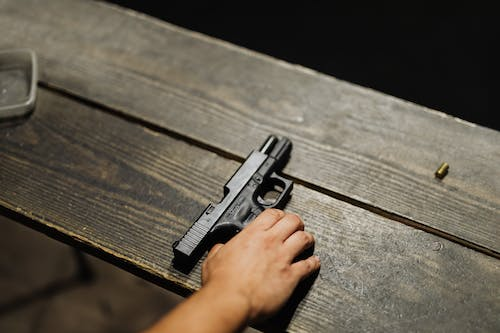gun: (171, 133, 297, 267)
